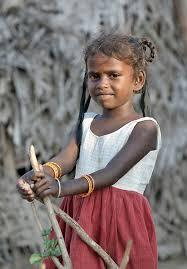Human: (33, 19, 162, 269)
